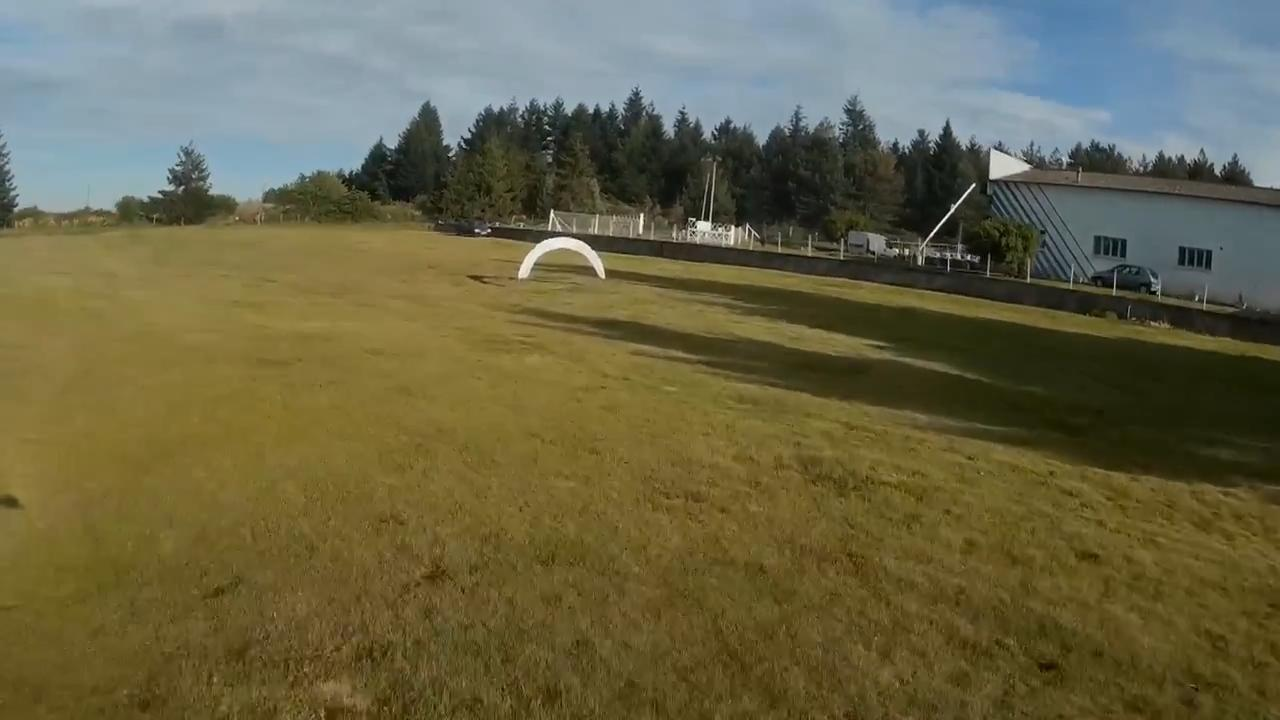gate: (517, 236, 604, 282)
